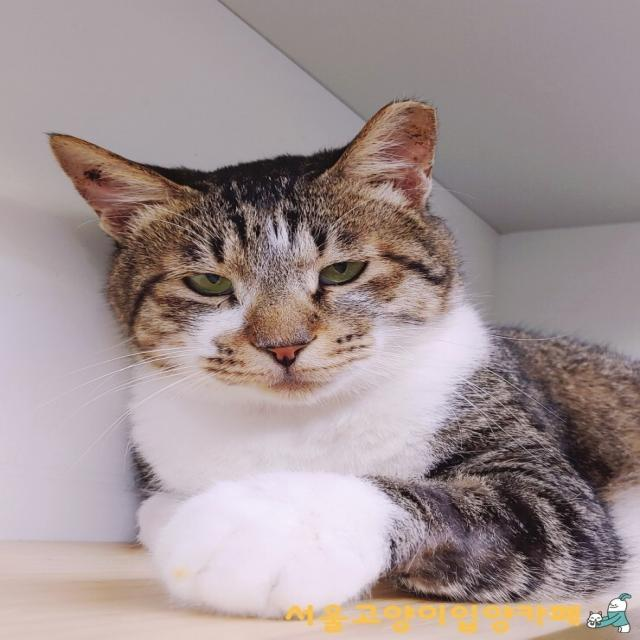cat: (35, 104, 640, 640)
